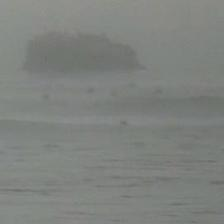surfer: (149, 87, 164, 97), (116, 118, 130, 128), (85, 86, 96, 97), (38, 93, 51, 101)
